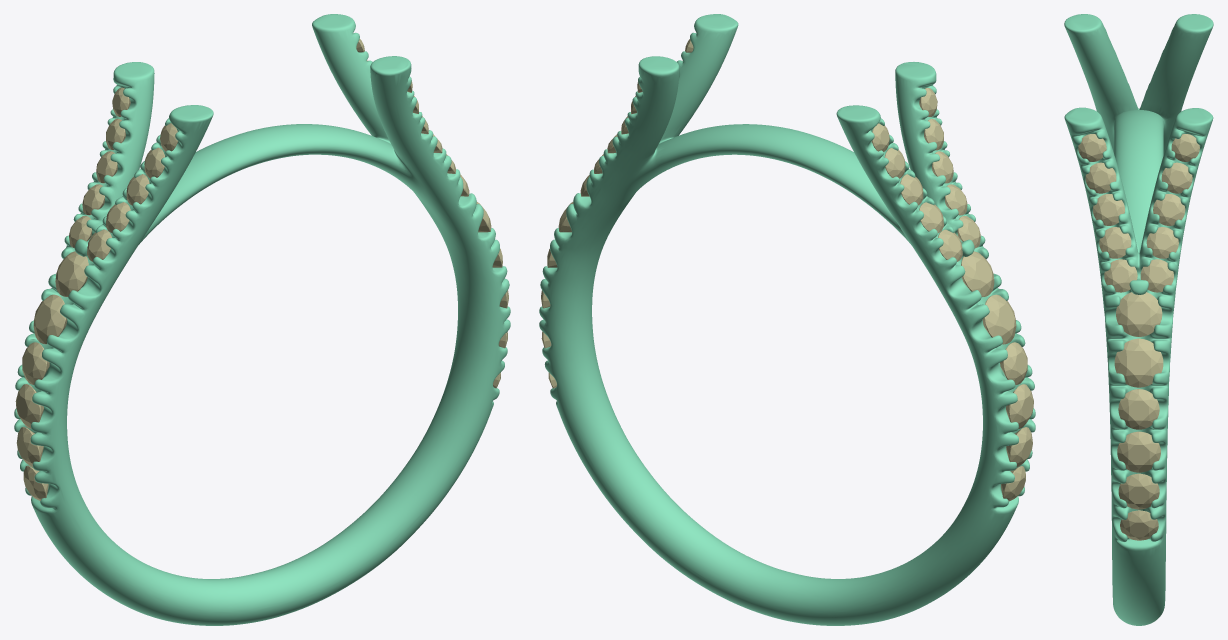
3 views of the same model, side by side, from view 1: azimuth 30°, elevation 25°; view 2: azimuth 150°, elevation 25°; view 3: azimuth 270°, elevation 25° (orthographic). The views are drawn at different scales.
Visible parts, largest first — view 1: Metal02, Diamond_Gem.028, Diamond_Gem.029, Diamond_Gem.027, Diamond_Gem.031; view 2: Metal02, Diamond_Gem.028, Diamond_Gem.029, Diamond_Gem.027, Diamond_Gem.031; view 3: Metal02, Diamond_Gem.003, Diamond_Gem.002, Diamond_Gem, Diamond_Gem.004, Diamond_Gem.001, Diamond_Gem.005, Diamond_Gem.011, Diamond_Gem.008, Diamond_Gem.009, Diamond_Gem.010, Diamond_Gem.012 (+5 smaller).
Boxes of the visible parts, x1,y1,x2,y2 form: Metal02: (14,14,510,625); Diamond_Gem.028: (33,294,67,344); Diamond_Gem.029: (55,251,88,296); Diamond_Gem.027: (22,342,49,384); Diamond_Gem.031: (15,384,43,428); Metal02: (539,14,1035,625); Diamond_Gem.028: (982,294,1016,344); Diamond_Gem.029: (961,251,994,296); Diamond_Gem.027: (1000,342,1027,384); Diamond_Gem.031: (1006,384,1033,428); Metal02: (1064,14,1213,625); Diamond_Gem.003: (1114,338,1163,387); Diamond_Gem.002: (1116,292,1162,336); Diamond_Gem: (1117,431,1160,472); Diamond_Gem.004: (1118,389,1159,429); Diamond_Gem.001: (1118,473,1159,509); Diamond_Gem.005: (1120,510,1158,540); Diamond_Gem.011: (1104,259,1137,292); Diamond_Gem.008: (1140,259,1173,292); Diamond_Gem.009: (1146,227,1178,258); Diamond_Gem.010: (1153,194,1185,225); Diamond_Gem.012: (1099,227,1131,258).
Bounding box in the file's own units: 20.9 × 22.82 × 5.8.
